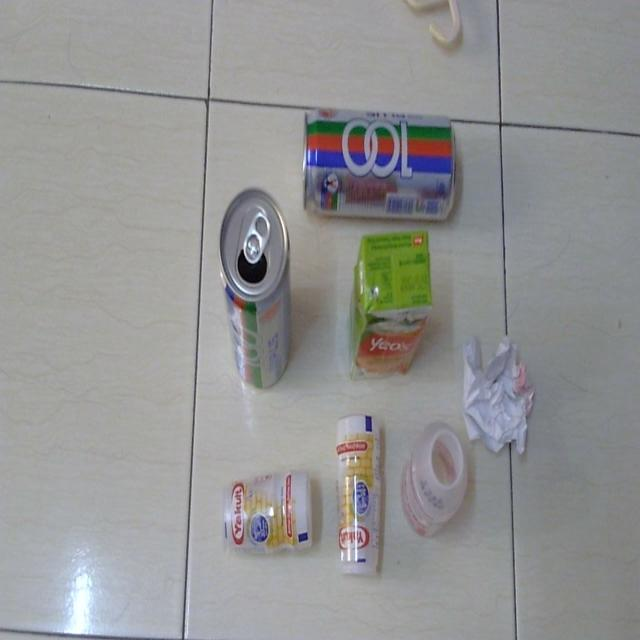metal_laydown_0rotation: (300, 97, 466, 224)
metal_standrotation: (216, 182, 299, 390)
paperrotation: (456, 330, 541, 458)
plastic_laydown_0rotation: (216, 470, 316, 558)
plastic_laydown_90rotation: (330, 410, 386, 586)
plastic_standrotation: (350, 228, 434, 381), (399, 416, 474, 550)
